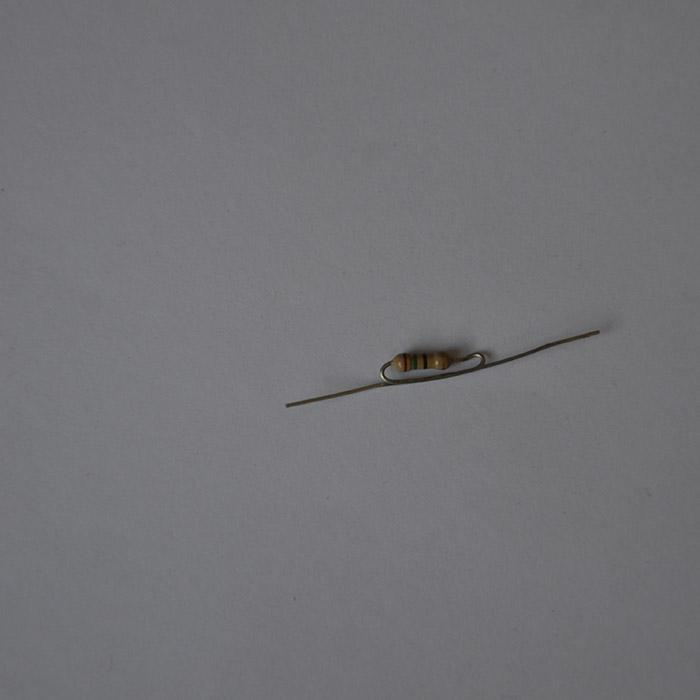resistor: (389, 350, 456, 373)
